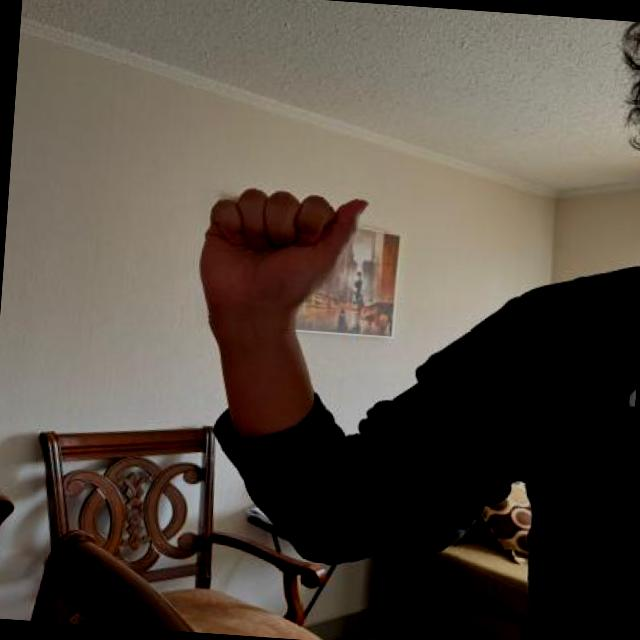A: (184, 177, 373, 331)
